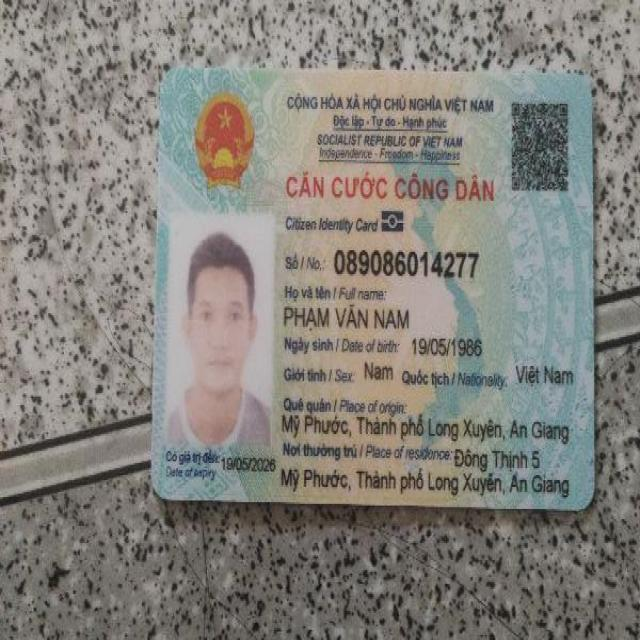current_place: (281, 466, 571, 500), (450, 443, 542, 473)
dob: (406, 333, 491, 360)
expire_date: (219, 448, 274, 475)
gender: (359, 355, 396, 384)
id: (335, 243, 481, 285)
name: (282, 297, 412, 336)
nationality: (515, 357, 575, 393)
origin_place: (278, 409, 572, 447)
